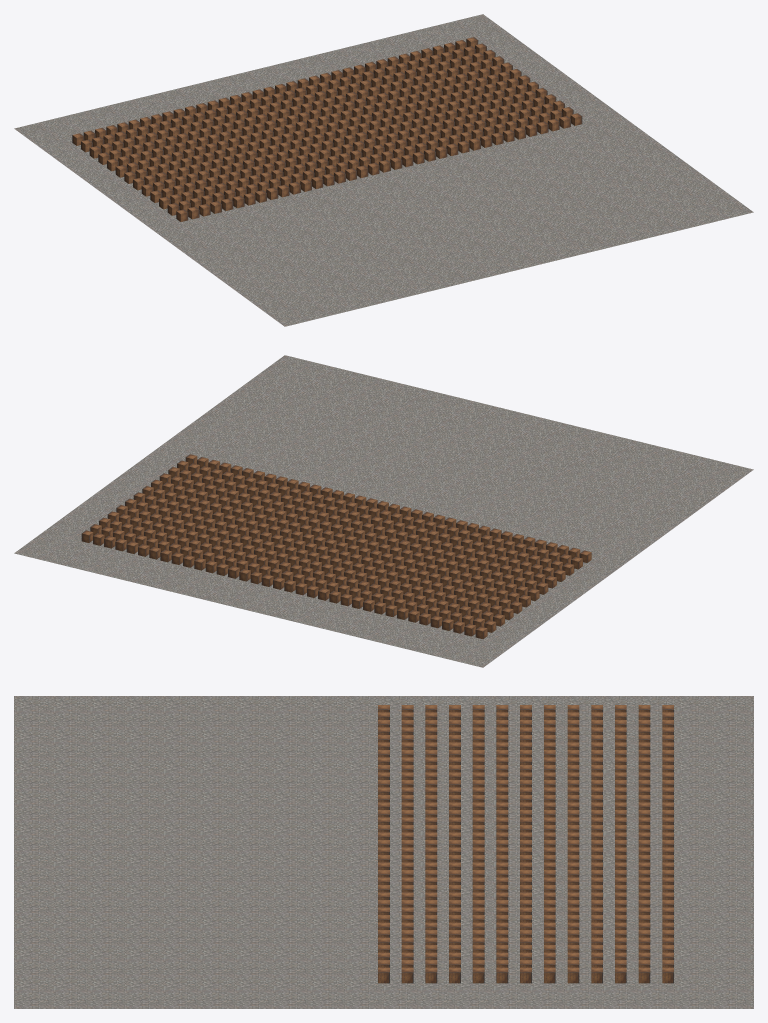
Rendered from light_demo.glb.
3 views of the same model, one above another, from view 1: azimuth 30°, elevation 25°; view 2: azimuth 150°, elevation 25°; view 3: azimuth 270°, elevation 25° (orthographic). The views are drawn at different scales.
Parts seen in each view (by area): view 1: Plane, Cube; view 2: Plane, Cube; view 3: Plane, Cube.
Boxes of the visible parts, x1,y1,x2,y2 form: Plane: (14, 14, 753, 326); Cube: (72, 37, 582, 221); Plane: (14, 355, 753, 667); Cube: (81, 454, 591, 638); Plane: (14, 696, 753, 1008); Cube: (378, 705, 673, 983).
Bounding box in the file's own units: 250 × 4 × 250.
Materials: 2 (2 with a texture image).
